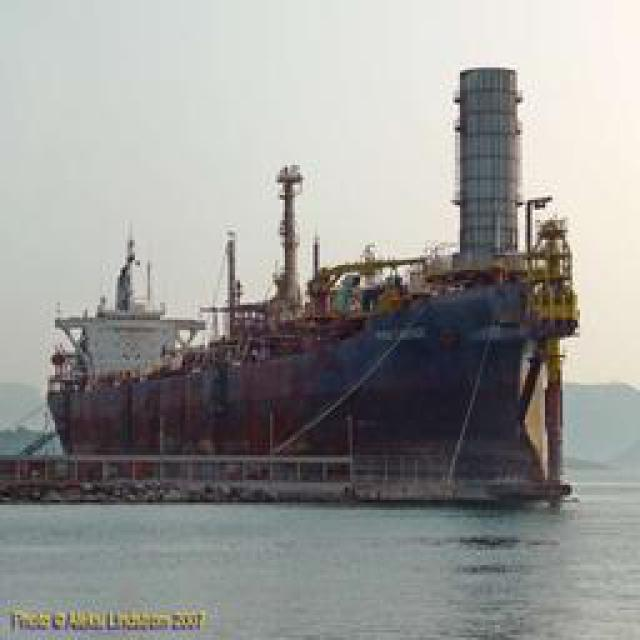Ship: (23, 188, 578, 503)
